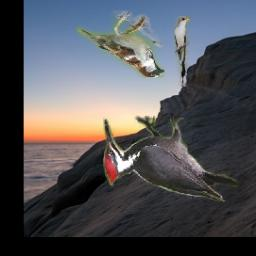Cuckoo: (175, 17, 191, 88)
Sparrow: (77, 10, 165, 78)
Woodpecker: (104, 117, 239, 202)
